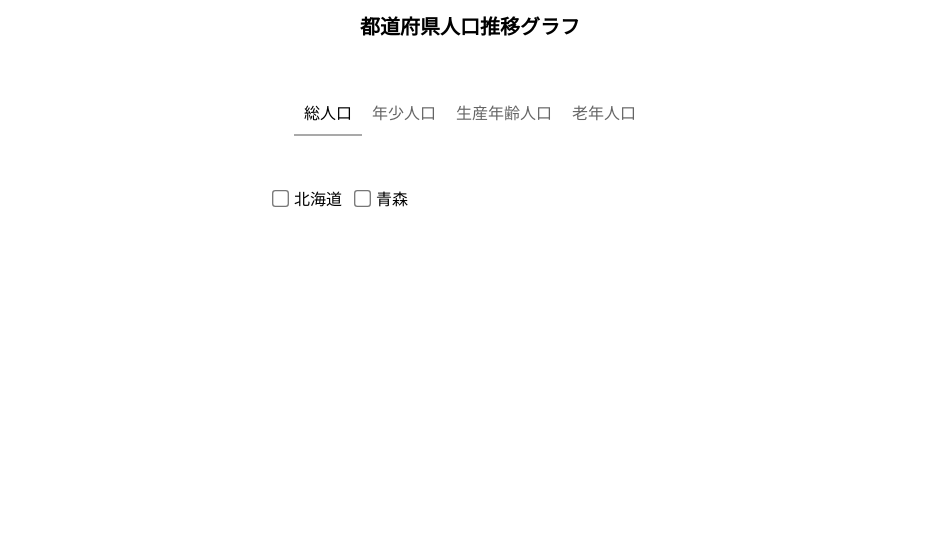
Test case: IndexPage › チェックボックスをクリックしたときにグラフが表示されるか
チェックボックスをクリック
Click the checkbox labelled "北海道". click: point(280, 199)
box: x1=272 y1=190 x2=289 y2=207
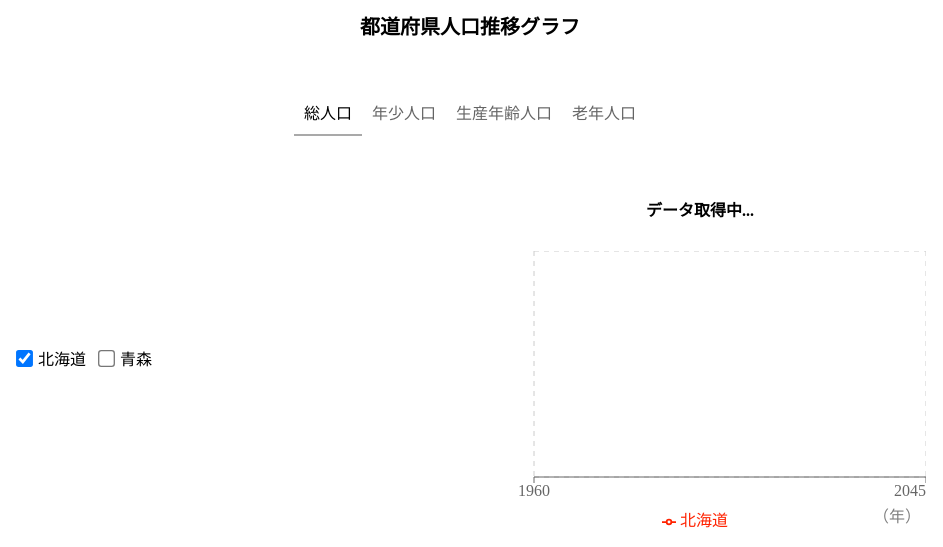
Expected: the element with test id "graph" is shown, x1=414 y1=197 x2=926 y2=531
